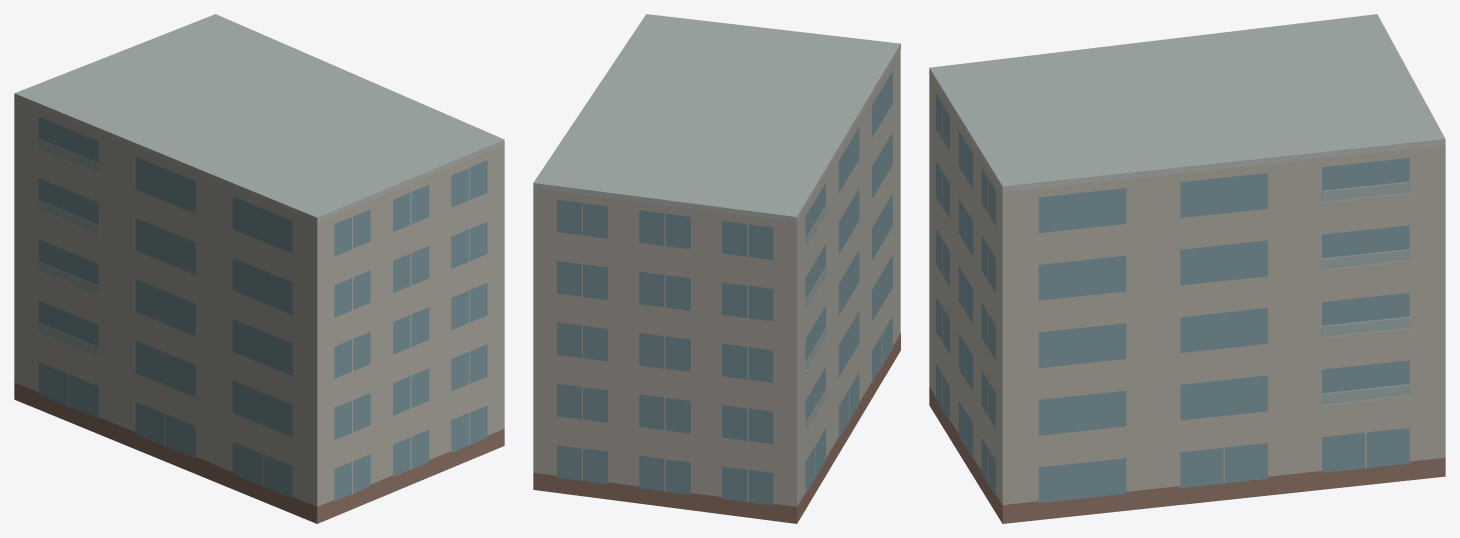
Rendered from survey-upis-32977379.glb.
3 renders of one model, left to right at view 1: azimuth 30°, elevation 25°; view 2: azimuth 150°, elevation 25°; view 3: azimuth 270°, elevation 25°, orthographic. The views are drawn at different scales.
Visible parts, largest first — view 1: survey-upis-32977379.tmp; view 2: survey-upis-32977379.tmp; view 3: survey-upis-32977379.tmp.
Part boxes in pixels (x1,y1,x2,y2): survey-upis-32977379.tmp: (14, 14, 504, 523); survey-upis-32977379.tmp: (533, 14, 900, 523); survey-upis-32977379.tmp: (929, 14, 1445, 523).
Bounding box in the file's own units: 15.56 × 14.2 × 19.69.
